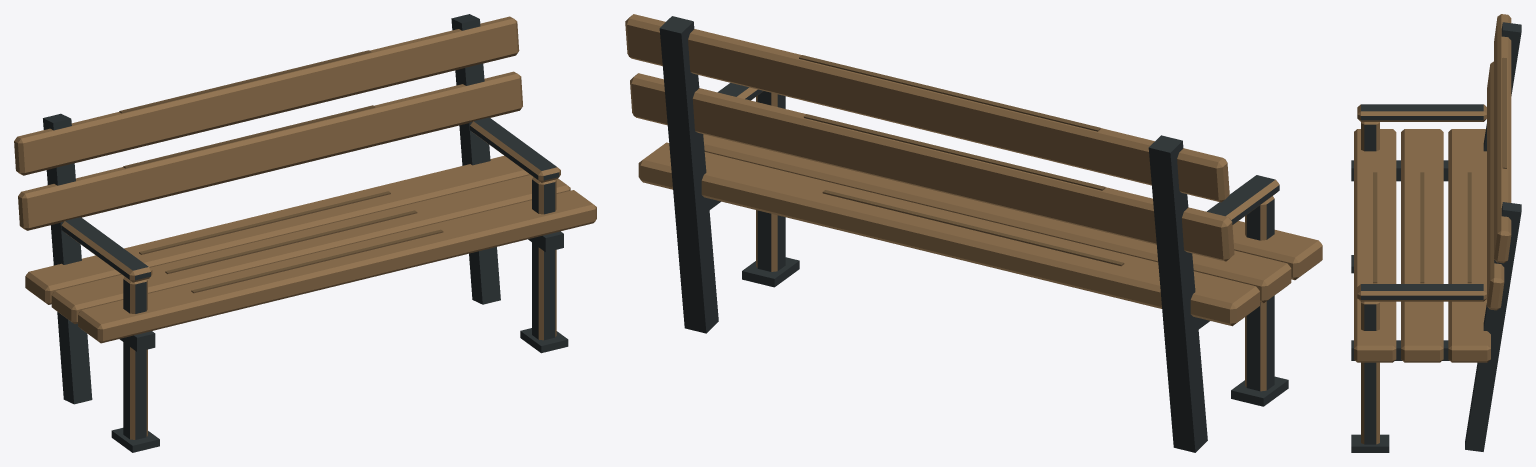
Rendered from bench.glb.
3 views of the same model, side by side, from view 1: azimuth 30°, elevation 25°; view 2: azimuth 150°, elevation 25°; view 3: azimuth 270°, elevation 25° (orthographic). The views are drawn at different scales.
Parts seen in each view (by area): view 1: bench-m; view 2: bench-m; view 3: bench-m.
Boxes of the visible parts, <box> form: bench-m: <box>14,14,596,452</box>; bench-m: <box>625,14,1322,452</box>; bench-m: <box>1351,14,1521,452</box>.
Size of the model in its own units: 2.2 by 1.13 by 0.7196.
